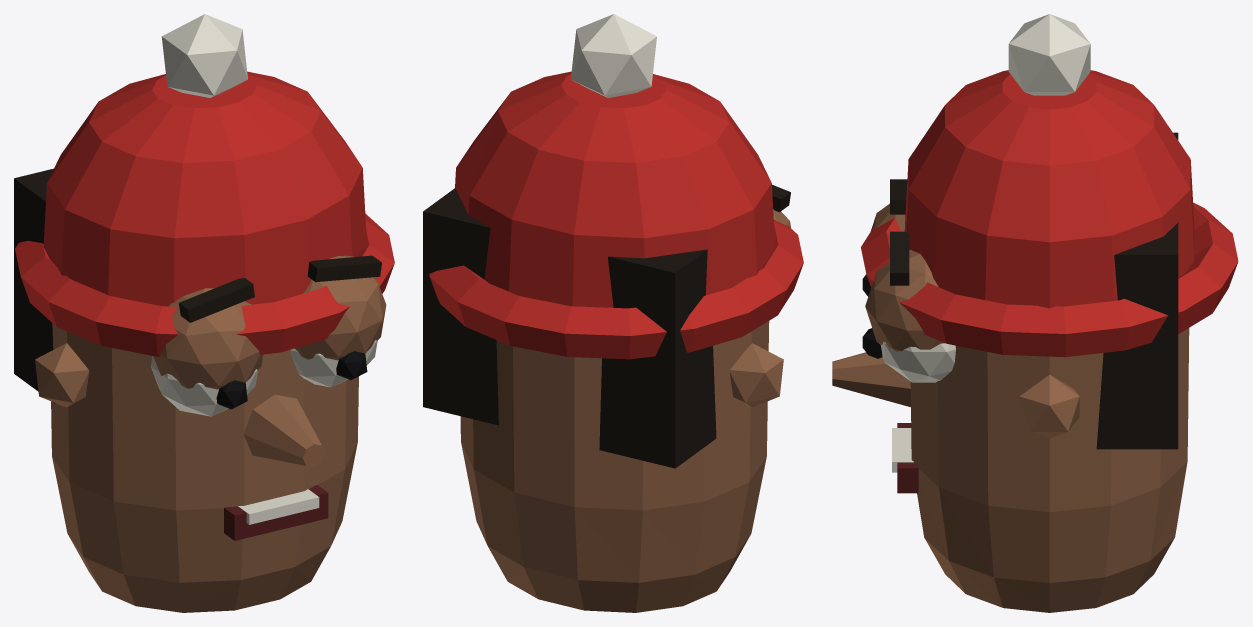
File: PersonHelper2Head.obj
3 views of the same model, side by side, from view 1: azimuth 30°, elevation 25°; view 2: azimuth 150°, elevation 25°; view 3: azimuth 270°, elevation 25° (orthographic).
Parts seen in each view (by area): view 1: PersonHelper2Head; view 2: PersonHelper2Head; view 3: PersonHelper2Head.
Boxes of the visible parts, x1,y1,x2,y2 form: PersonHelper2Head: (14, 14, 394, 612); PersonHelper2Head: (423, 14, 803, 612); PersonHelper2Head: (832, 14, 1238, 612).
Bounding box in the file's own units: 0.355 × 0.565 × 0.3786.
